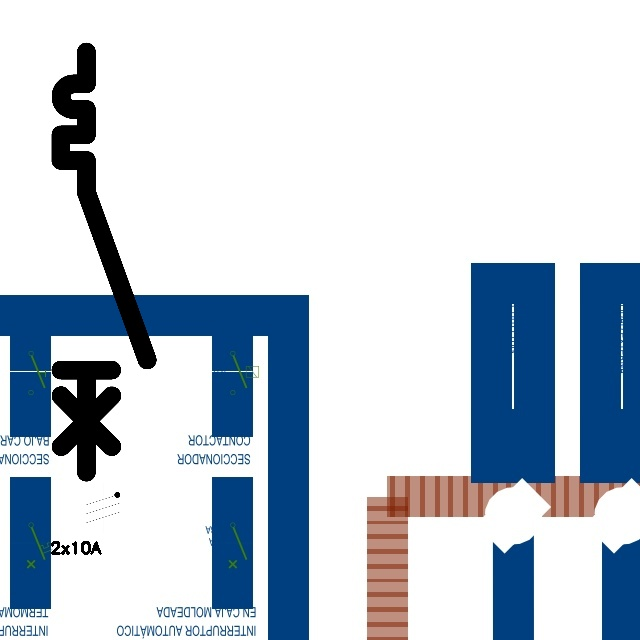interruptor_termomagnetico: (50, 41, 158, 482)
